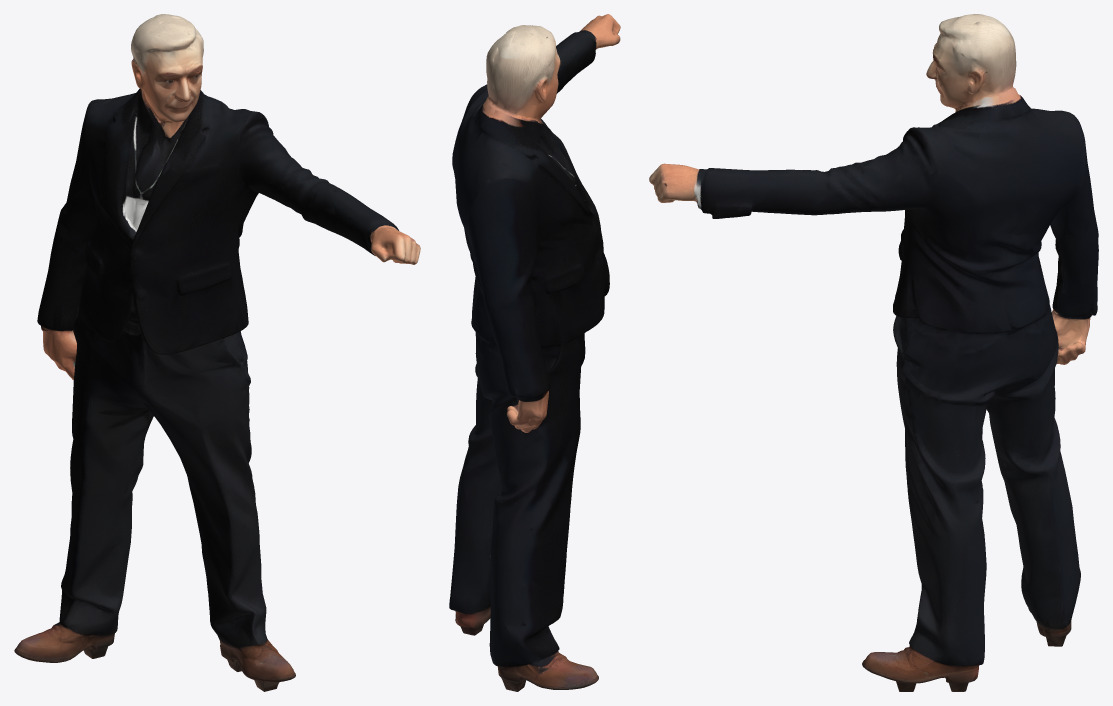
3 views of the same model, side by side, from view 1: azimuth 30°, elevation 25°; view 2: azimuth 150°, elevation 25°; view 3: azimuth 270°, elevation 25° (orthographic). The views are drawn at different scales.
Size of the model in its own units: 0.6452 by 1.91 by 1.21.
Materials: 1 (1 with a texture image).
